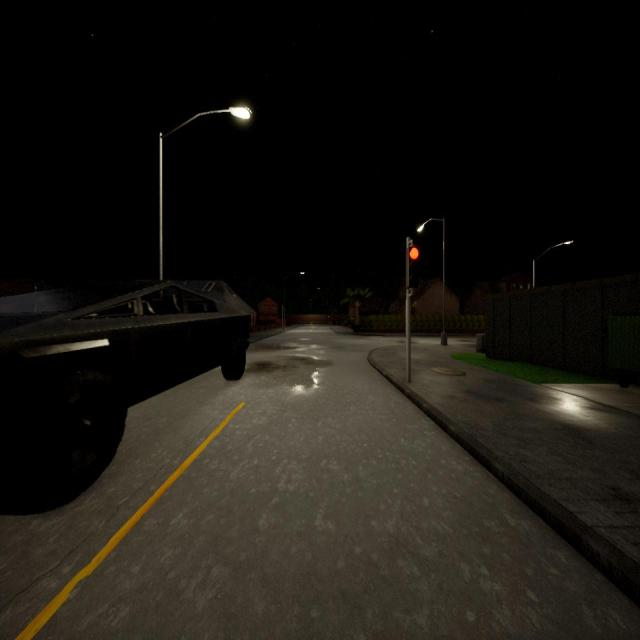Vehicle: (0, 269, 255, 514)
traffic_light: (406, 246, 419, 289)
